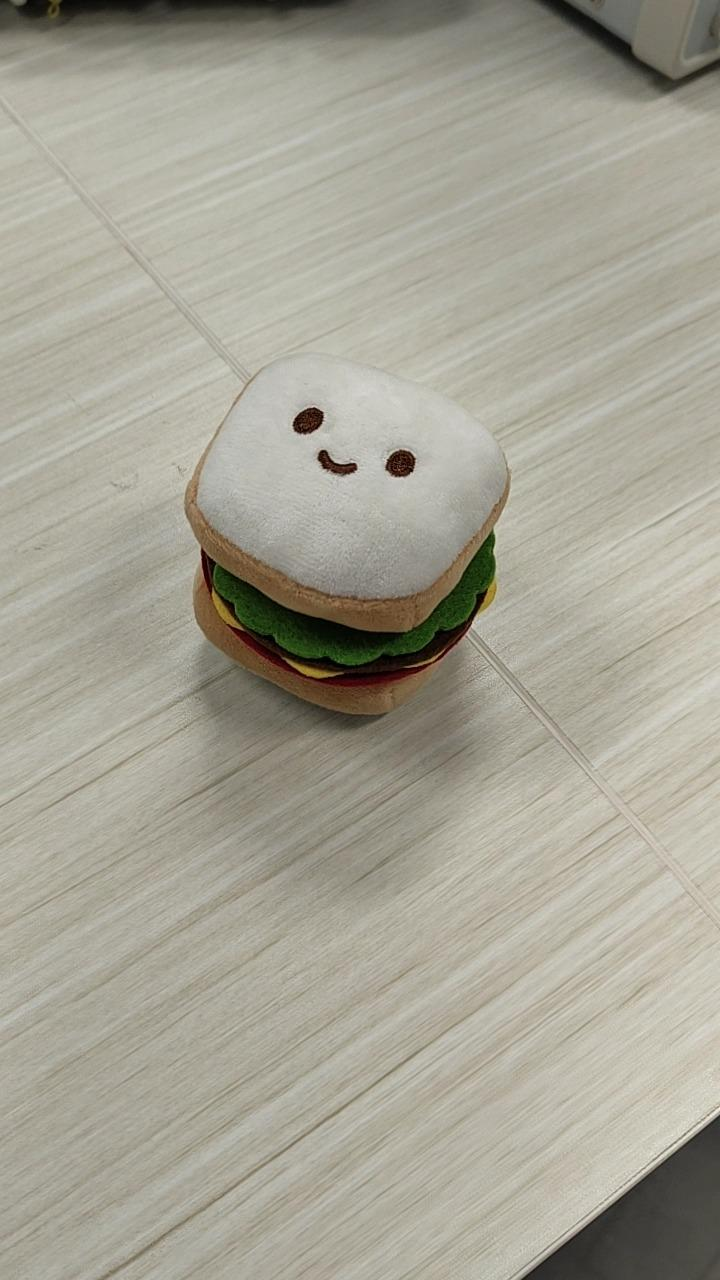objects: (182, 349, 511, 717)
